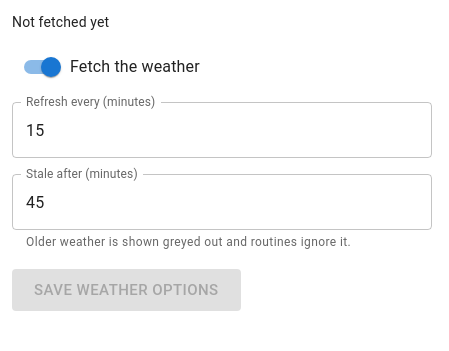
WeatherOptionsCard › checks the refresh interval
Replace the text in the number field labelled "Refresh every (minutes)" with "4" at coordinates (222, 130), box [12, 102, 432, 158]
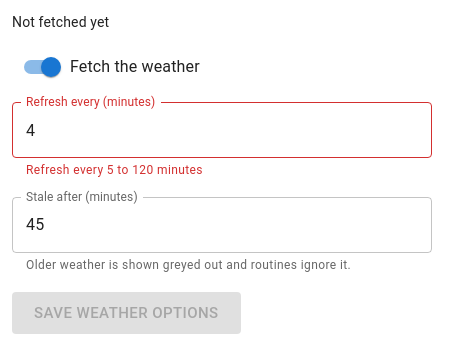
Check: the button "Save weather options" is disabled, box [12, 292, 240, 334]
Check: the text "Refresh every 5 to 120 minutes" is shown, box [26, 163, 203, 177]
